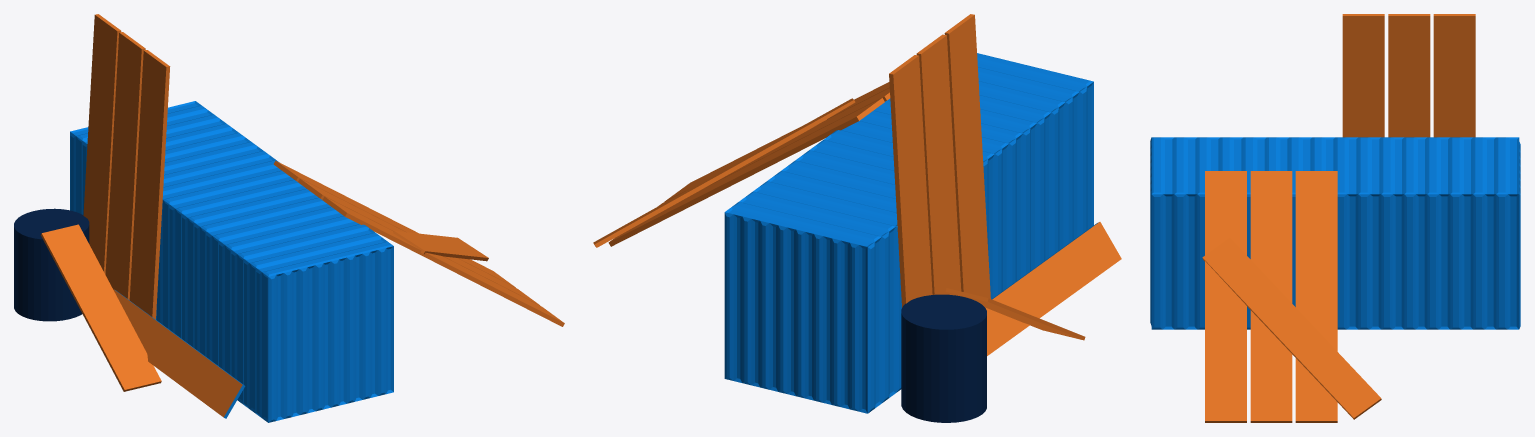
The model's file is container_roof.fbx.
3 views of the same model, side by side, from view 1: azimuth 30°, elevation 25°; view 2: azimuth 150°, elevation 25°; view 3: azimuth 270°, elevation 25° (orthographic). The views are drawn at different scales.
Parts seen in each view (by area): view 1: opeque_roof; view 2: opeque_roof; view 3: opeque_roof.
Boxes of the visible parts, left/top/right/bottom form: opeque_roof: left=14, top=14, right=564, bottom=422; opeque_roof: left=593, top=14, right=1121, bottom=422; opeque_roof: left=1150, top=14, right=1520, bottom=422.
Bounding box in the file's own units: 1040 × 706 × 886.
